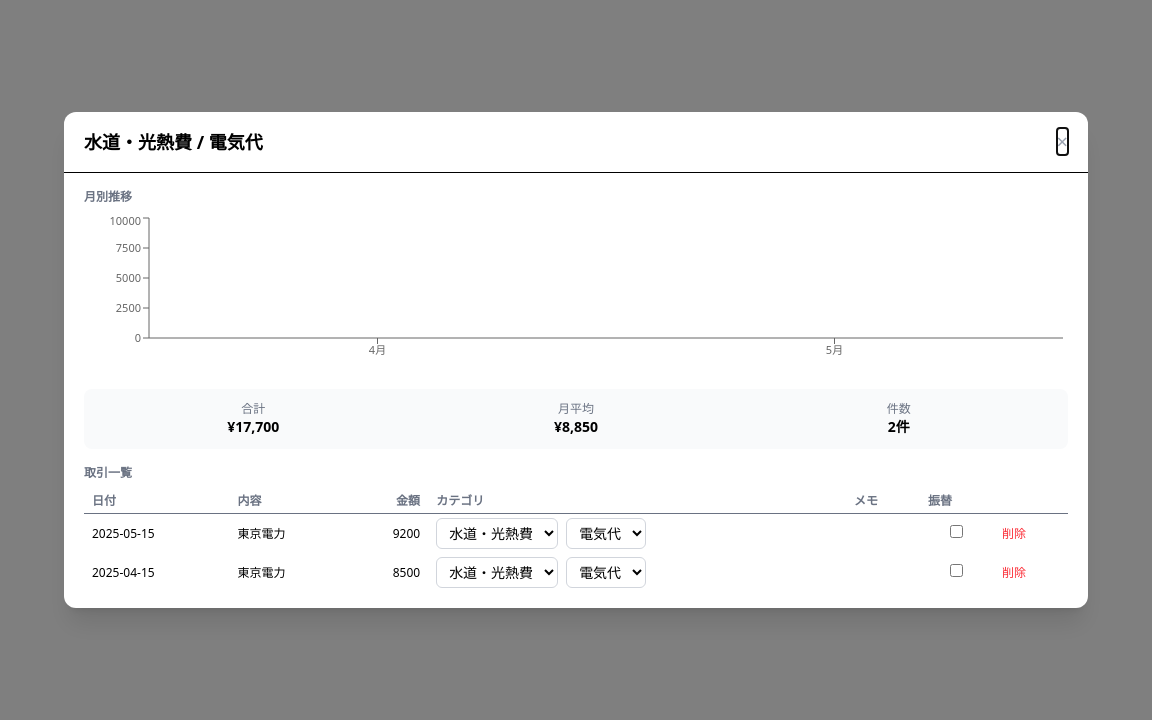
it: TransactionDetailModal › 取引削除後にその取引が一覧から消え合計が更新される
Expected: the number of buttons "東京電力" is 2, [237, 526, 285, 542]; [237, 564, 285, 580]
Click the button "削除" in the row of "2025-05-15" at (1014, 534), box [1002, 526, 1026, 542]
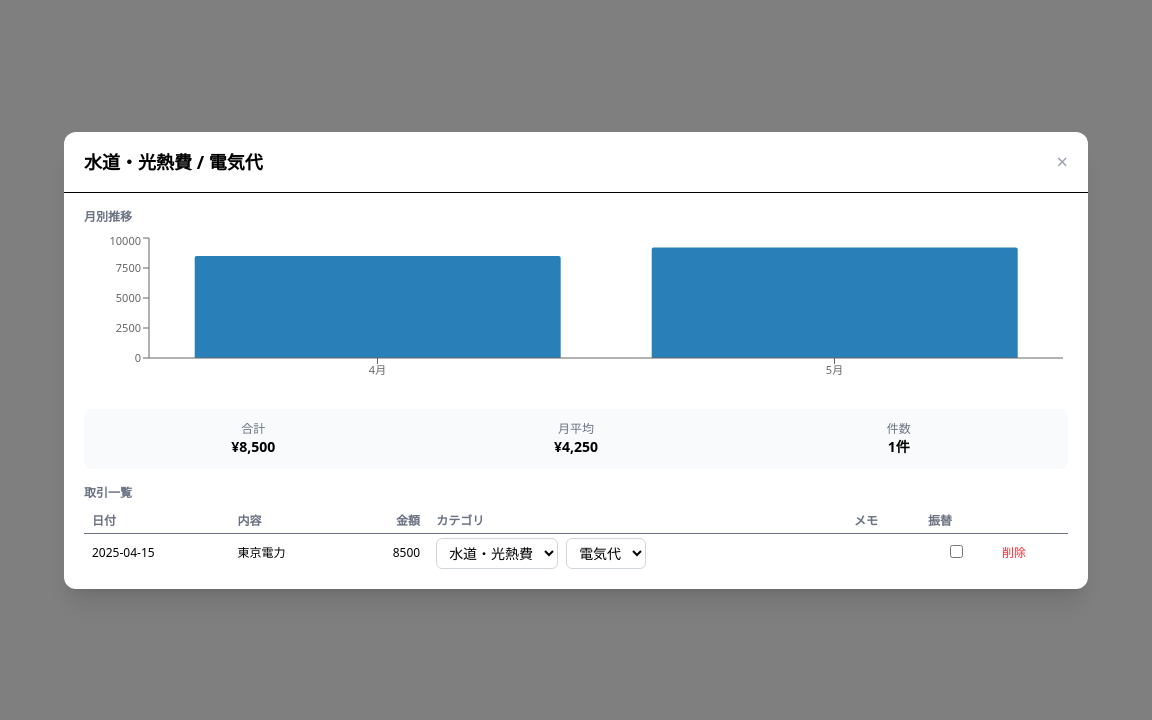
Result: the number of buttons "東京電力" is 1 at [237, 545, 285, 561]
